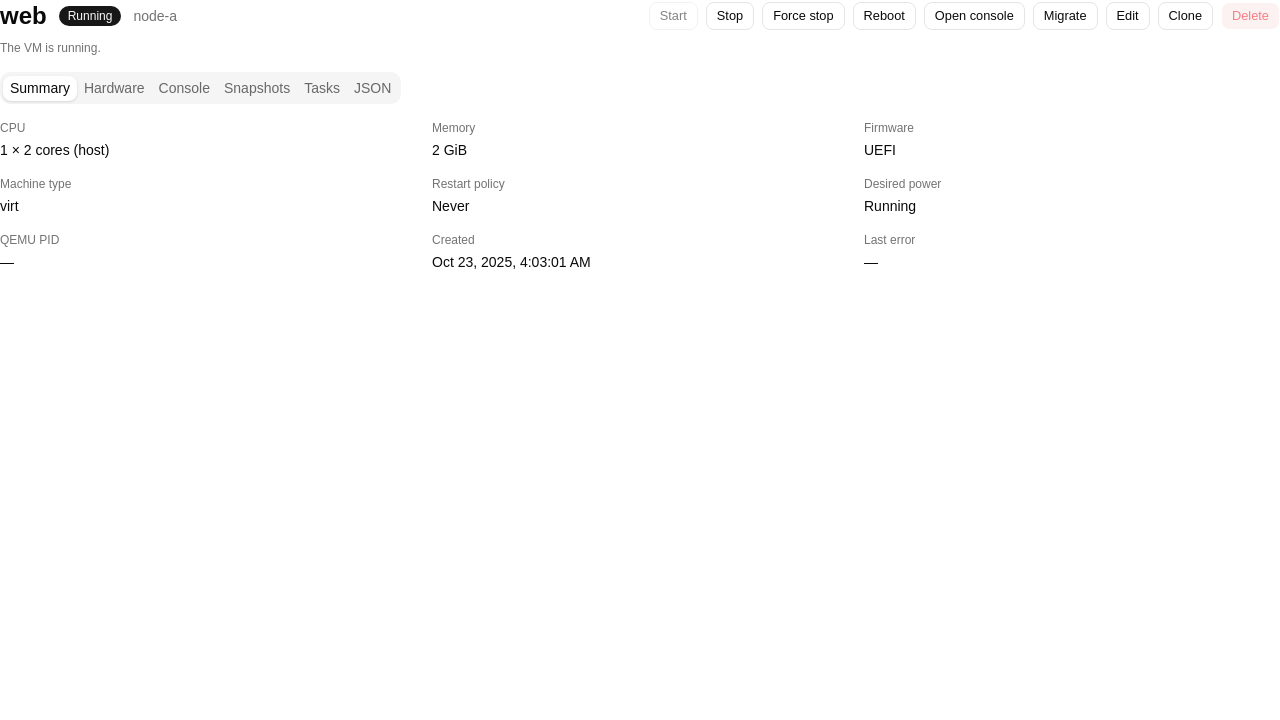
it: explains why a running VM without snapshots cannot be cloned
Click the button "Clone": (1185, 16) [1158,2,1213,30]
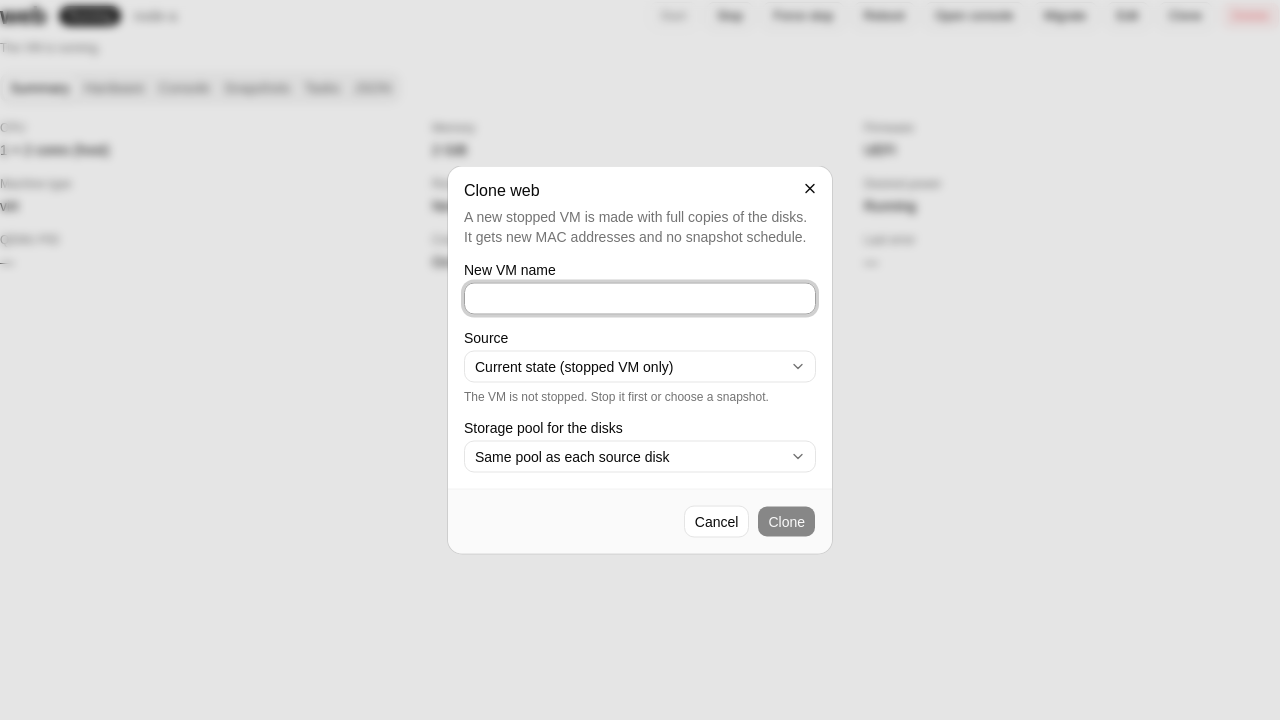
Now the button "Clone" is disabled, box [757,506,816,538]
